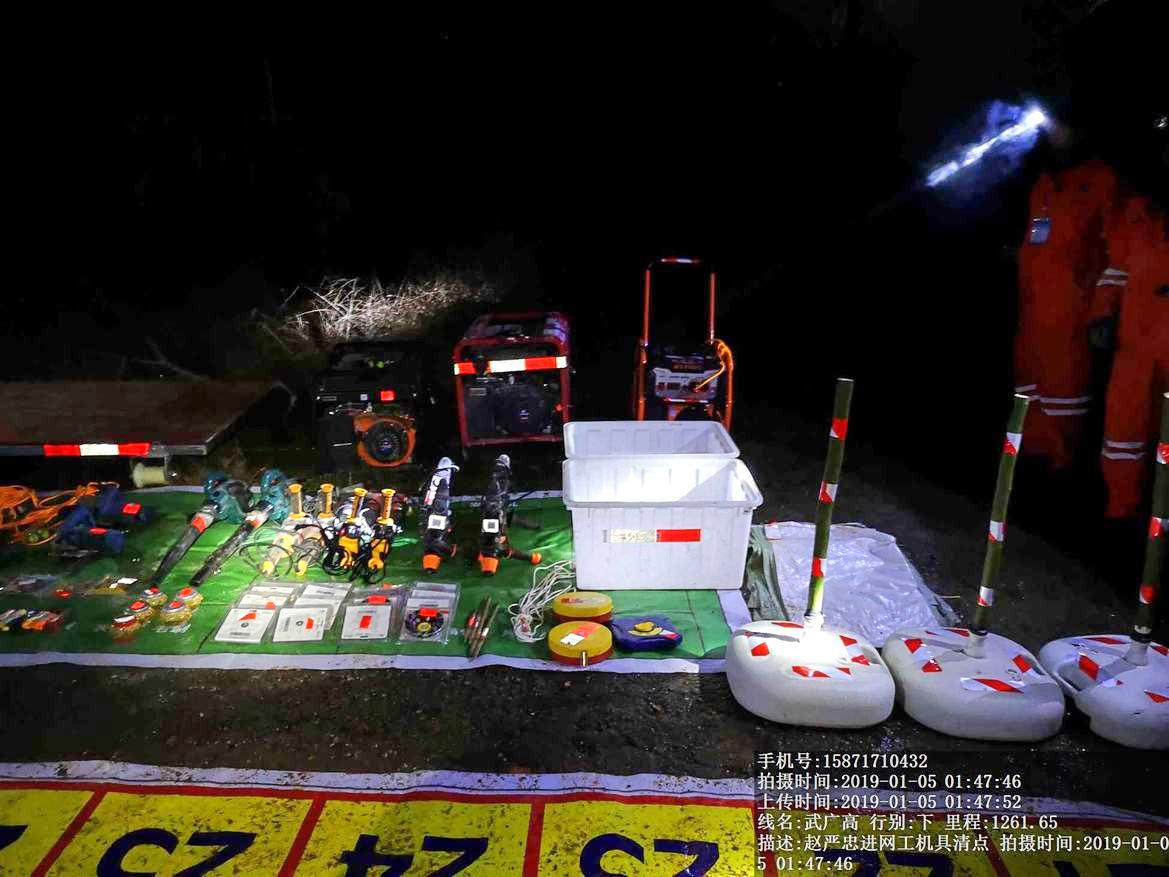DJ: (621, 246, 752, 414), (440, 307, 575, 454), (306, 348, 439, 470)
DZ: (327, 477, 366, 579), (368, 477, 401, 574)
GFJ: (152, 472, 251, 578), (209, 471, 288, 574)
JC: (610, 607, 693, 658), (543, 618, 615, 667), (550, 588, 611, 621)
ST: (898, 365, 1068, 738), (737, 385, 882, 730), (1063, 414, 1169, 762)
T: (560, 456, 761, 593), (554, 417, 744, 456)
